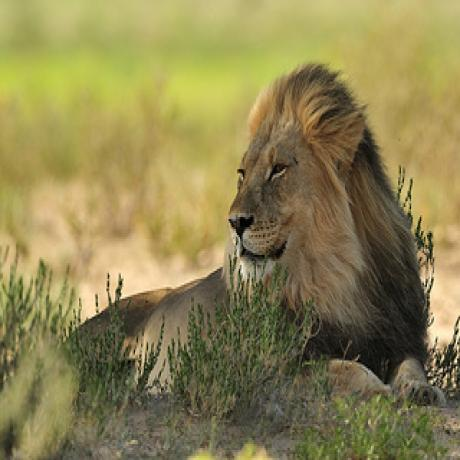Lion: (58, 62, 444, 411)
